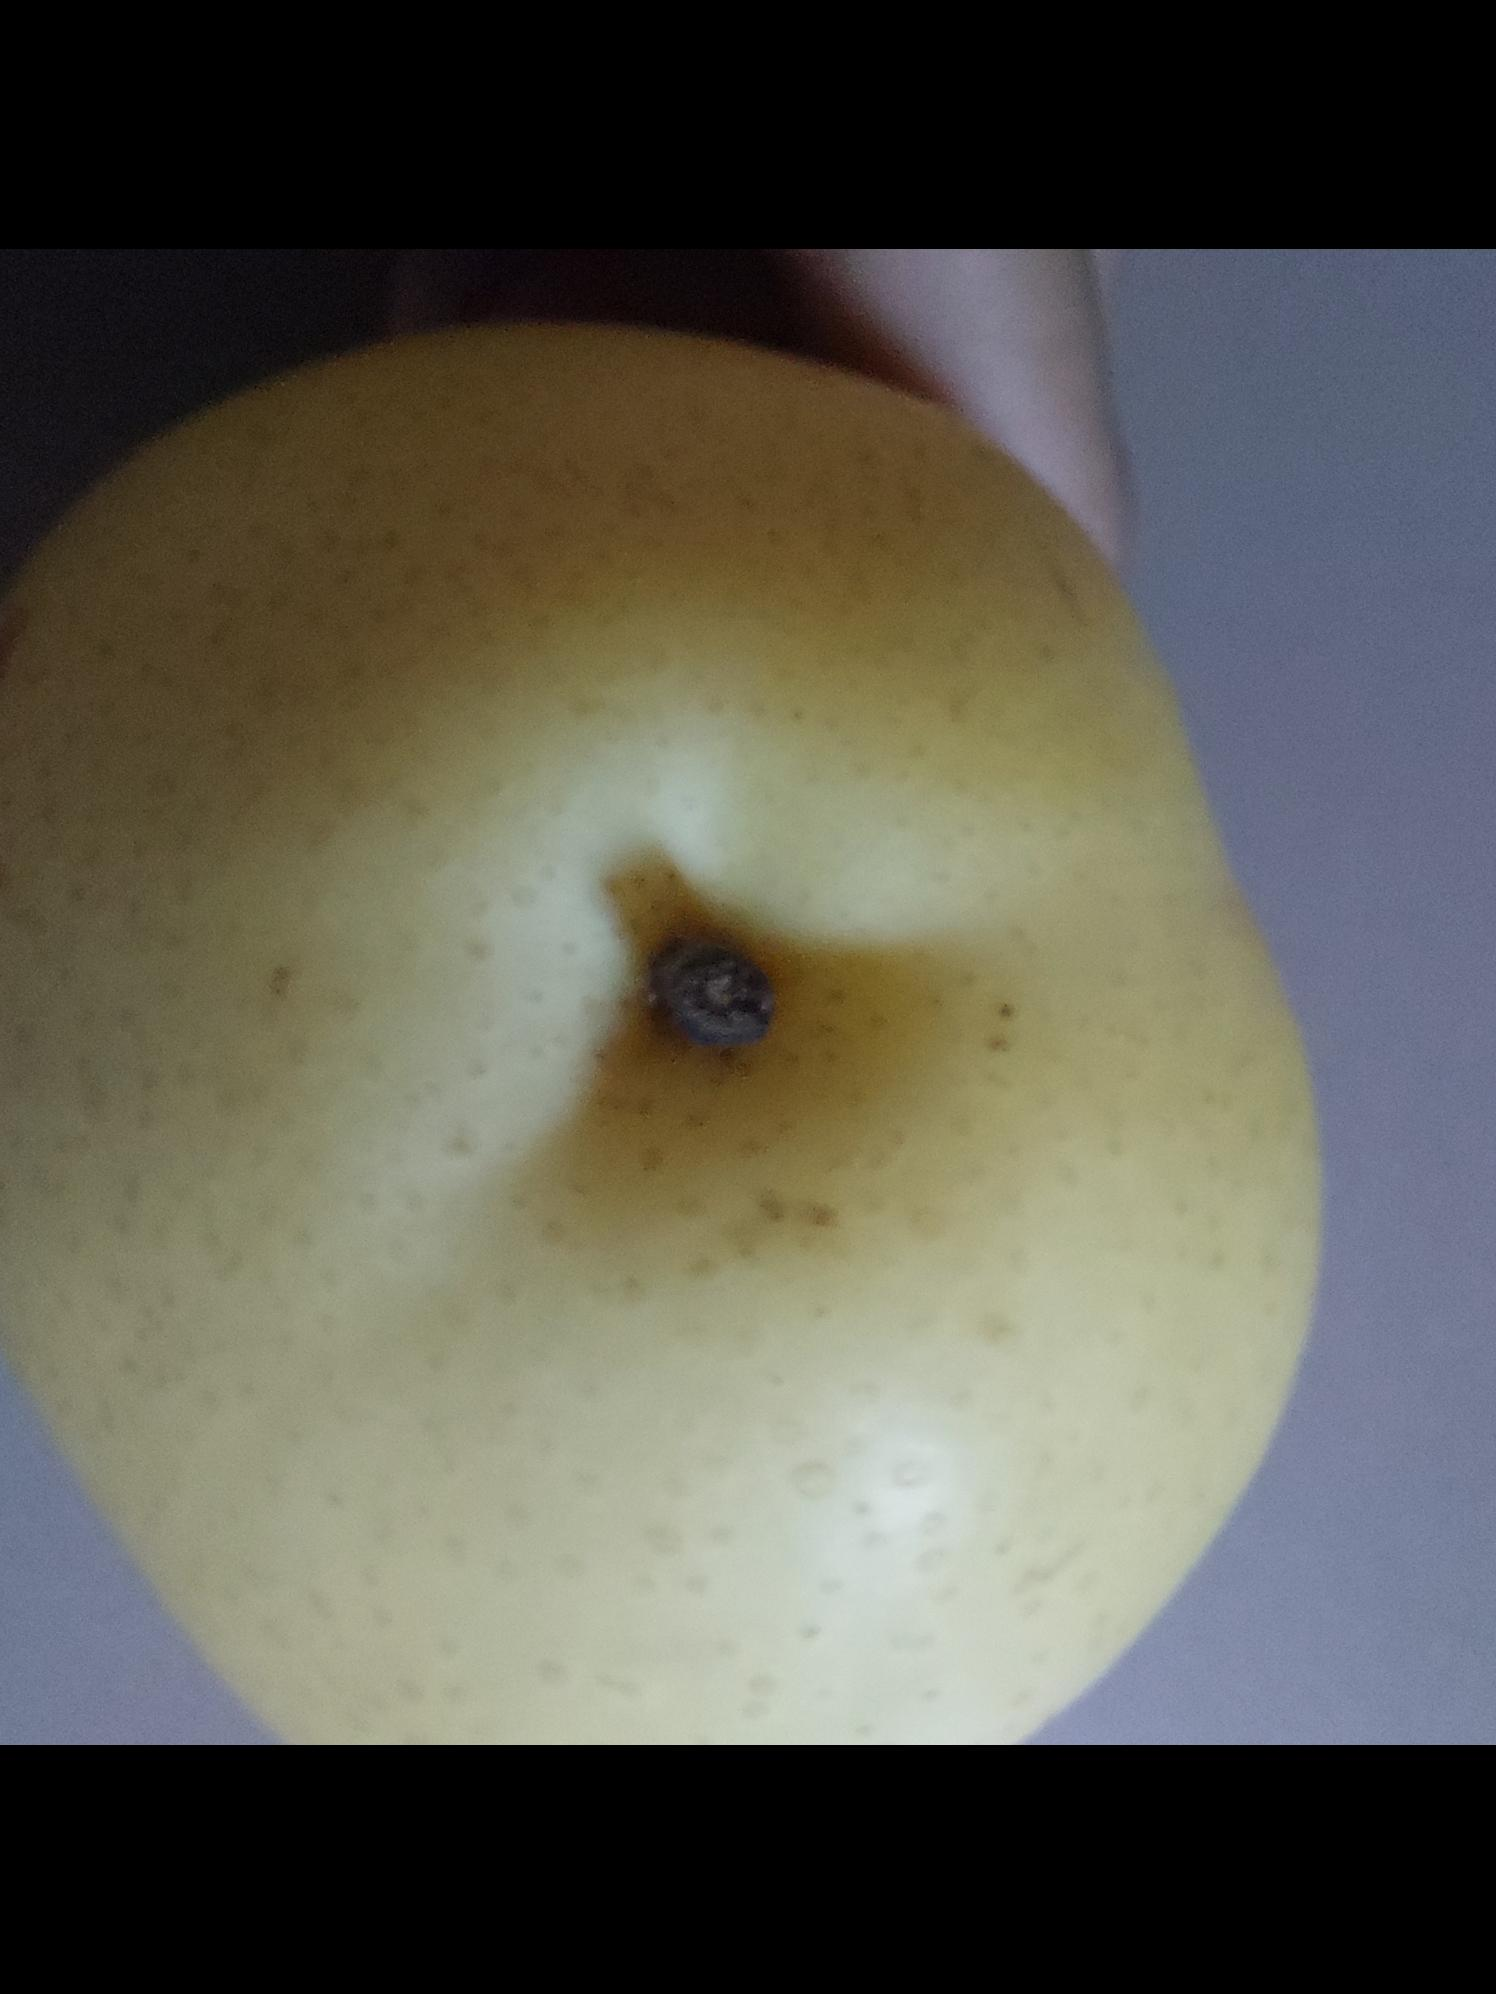Good Pear: (0, 347, 1345, 1746)
